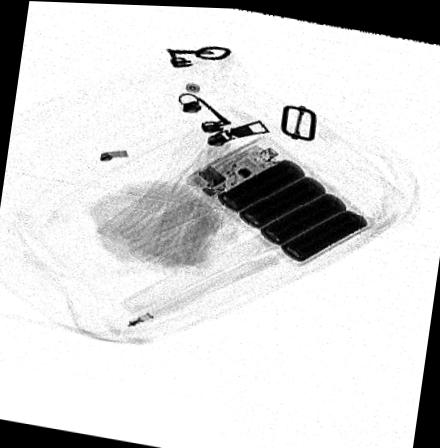Powerbank: (186, 132, 376, 266)
